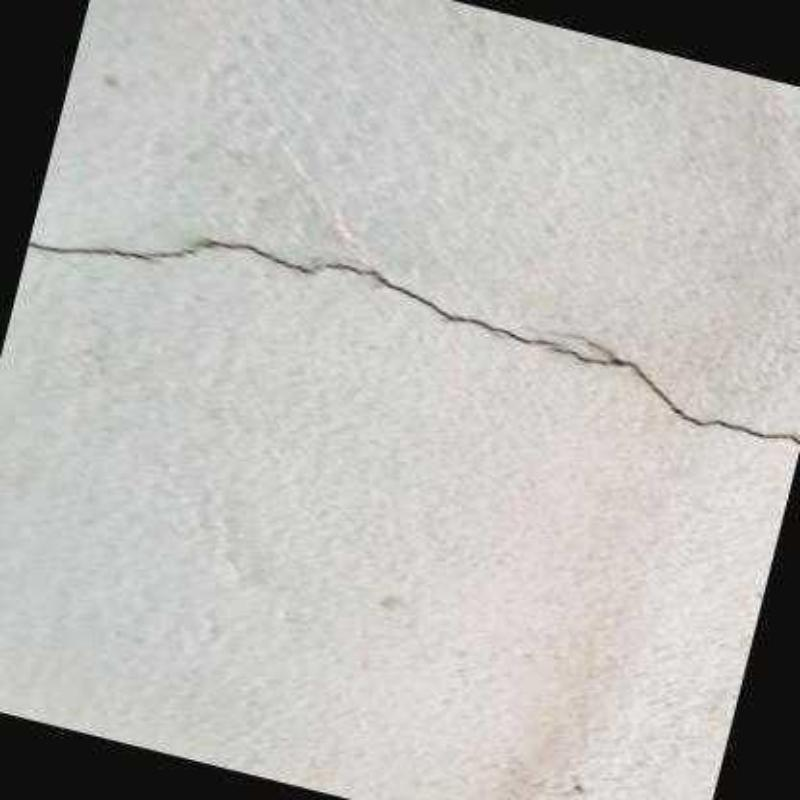pothole: (26, 238, 798, 448), (537, 327, 613, 360)
